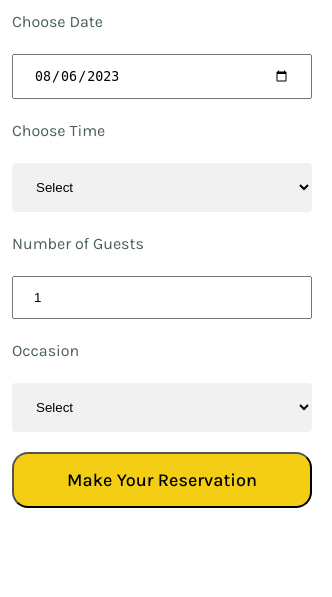
Booking Form › should display an error message and disable sumbit button when date field's value is empty
The width and height of the screenshot is (332, 597).
Clear the date field labelled "Choose Date" at (162, 77), box [12,54,312,99]
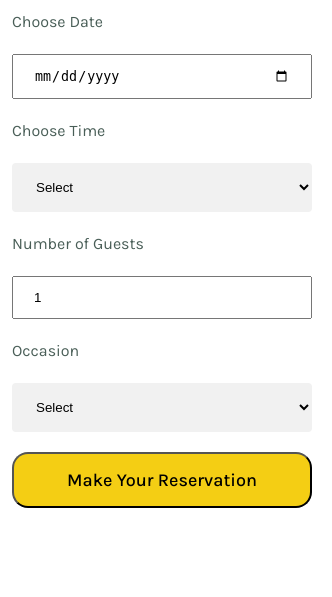
Leave the date field labelled "Choose Date", box [12,54,312,99]
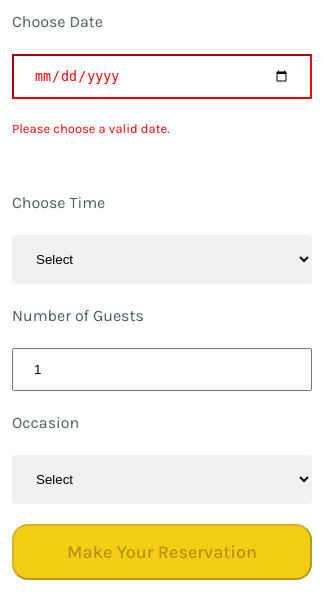
Now the text with test id "error-res-date" shows "Please choose a valid date", box [12,121,170,136]
Now the button is disabled, box [12,524,312,580]
